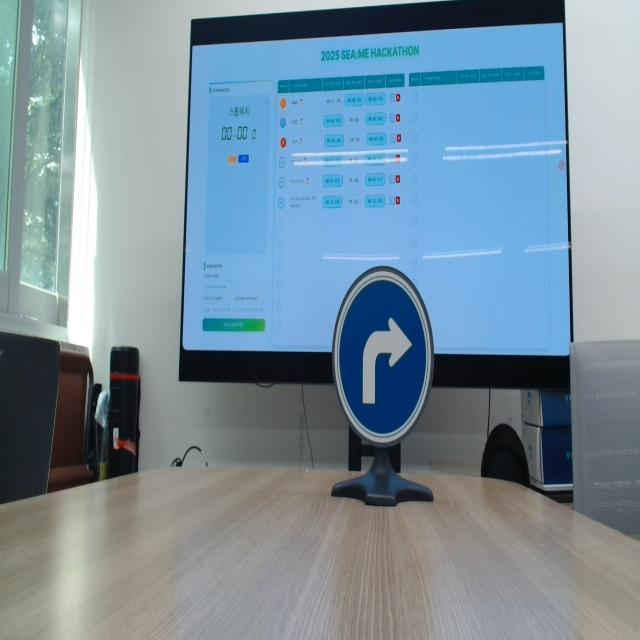right_dierection: (334, 252, 454, 483)
